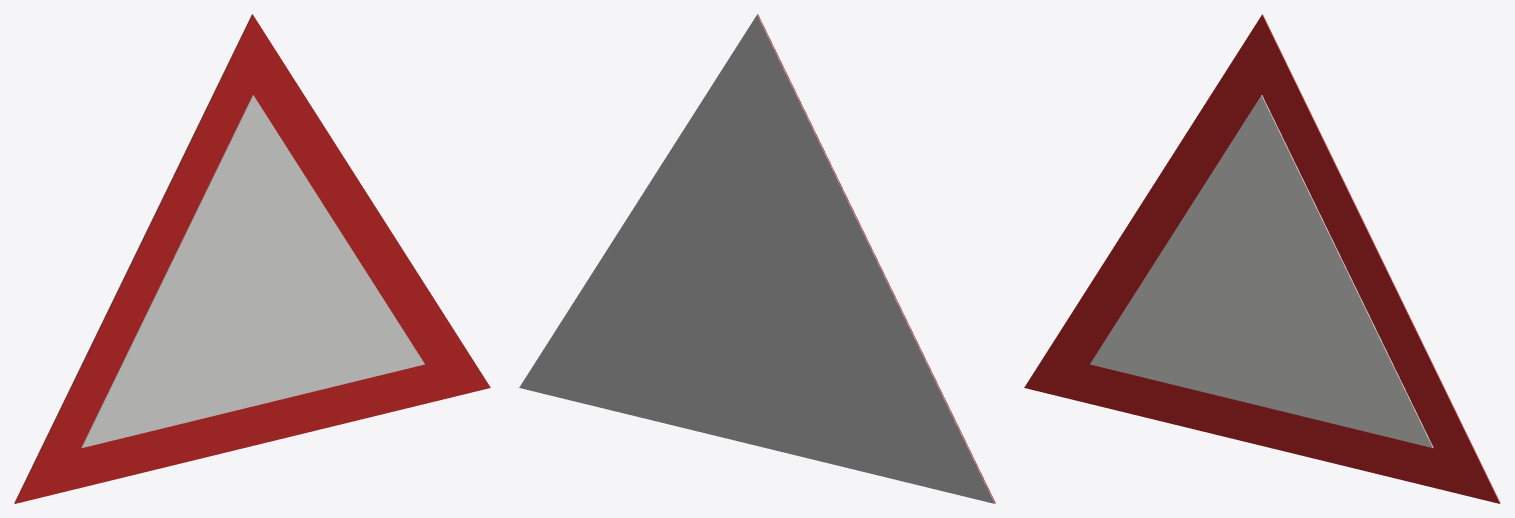
The model's file is A_tri.glb.
The picture shows the model from 3 angles, left to right: view 1: azimuth 30°, elevation 25°; view 2: azimuth 150°, elevation 25°; view 3: azimuth 330°, elevation 25°; orthographic projection.
Parts seen in each view (by area): view 1: A_tri_fond, A_tri_bord, A_tri_dos; view 2: A_tri_dos, A_tri_bord; view 3: A_tri_fond, A_tri_bord, A_tri_dos.
Boxes of the visible parts, left/top/right/bottom form: A_tri_fond: left=81, top=95, right=424, bottom=447; A_tri_bord: left=14, top=14, right=490, bottom=503; A_tri_dos: left=14, top=14, right=252, bottom=503; A_tri_dos: left=519, top=14, right=994, bottom=503; A_tri_bord: left=757, top=14, right=995, bottom=503; A_tri_fond: left=1090, top=95, right=1433, bottom=447; A_tri_bord: left=1024, top=14, right=1500, bottom=503; A_tri_dos: left=1262, top=14, right=1500, bottom=503.
Size of the model in its own units: 1 by 0.866 by 0.0055.
